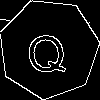Q: (24, 23, 68, 77)
